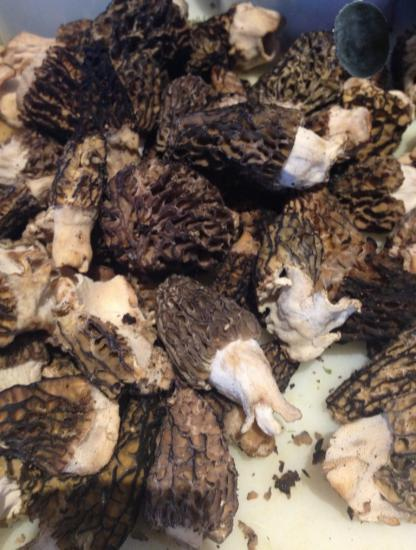Blueberry: (321, 0, 401, 80)
